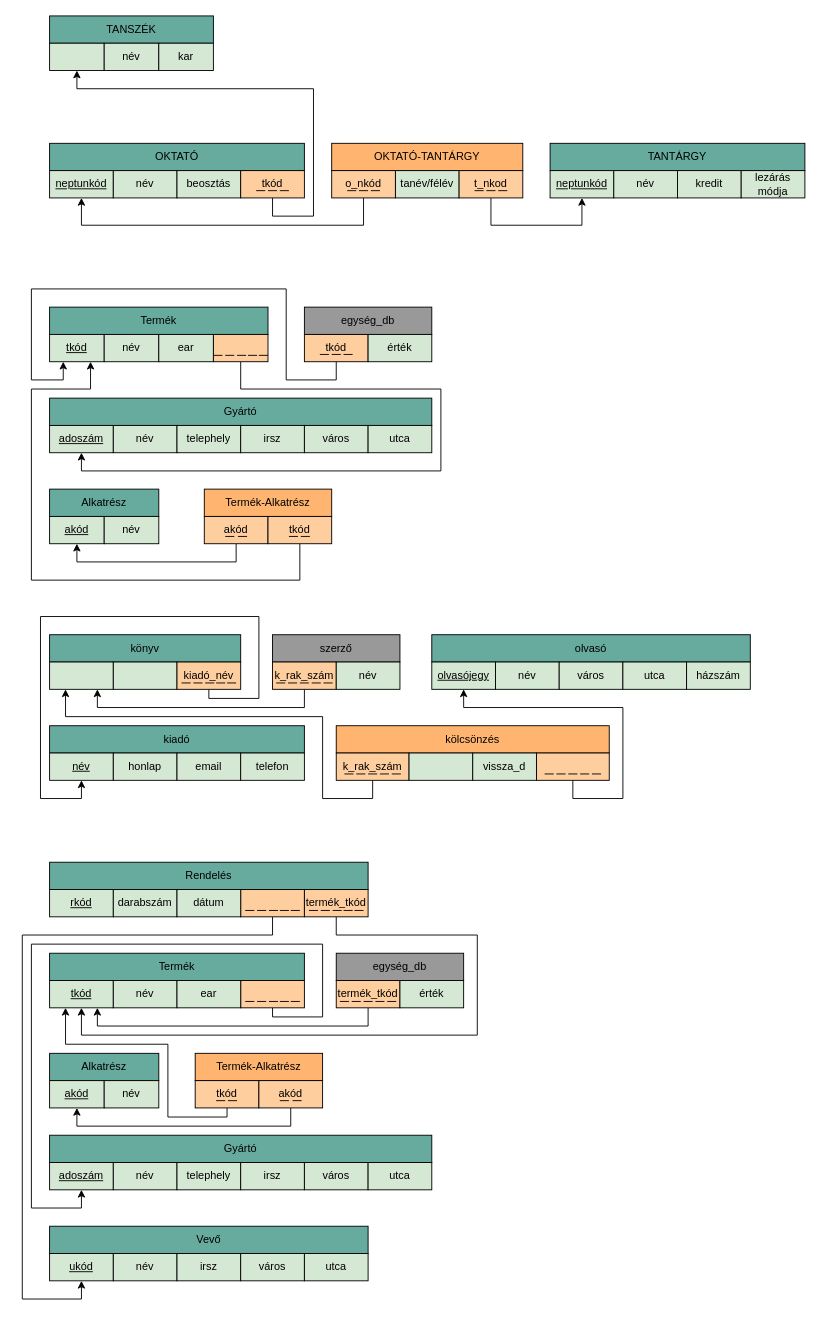
Image size: 821x1322. Some labels were removed from this diagram. Here are the shapes that lost their labels. From the top down, the centre of each, then its label:
At (76,56): "kód".
At (240,348): "gy_aszám".
At (81,675): "raktári_sz".
At (144,675): "cím".
At (440,766): "kölcs_d".
At (572,766): "o_olvasójegy".
At (272,903): "vevő_ukód".
At (272,994): "gyár_aszám".
